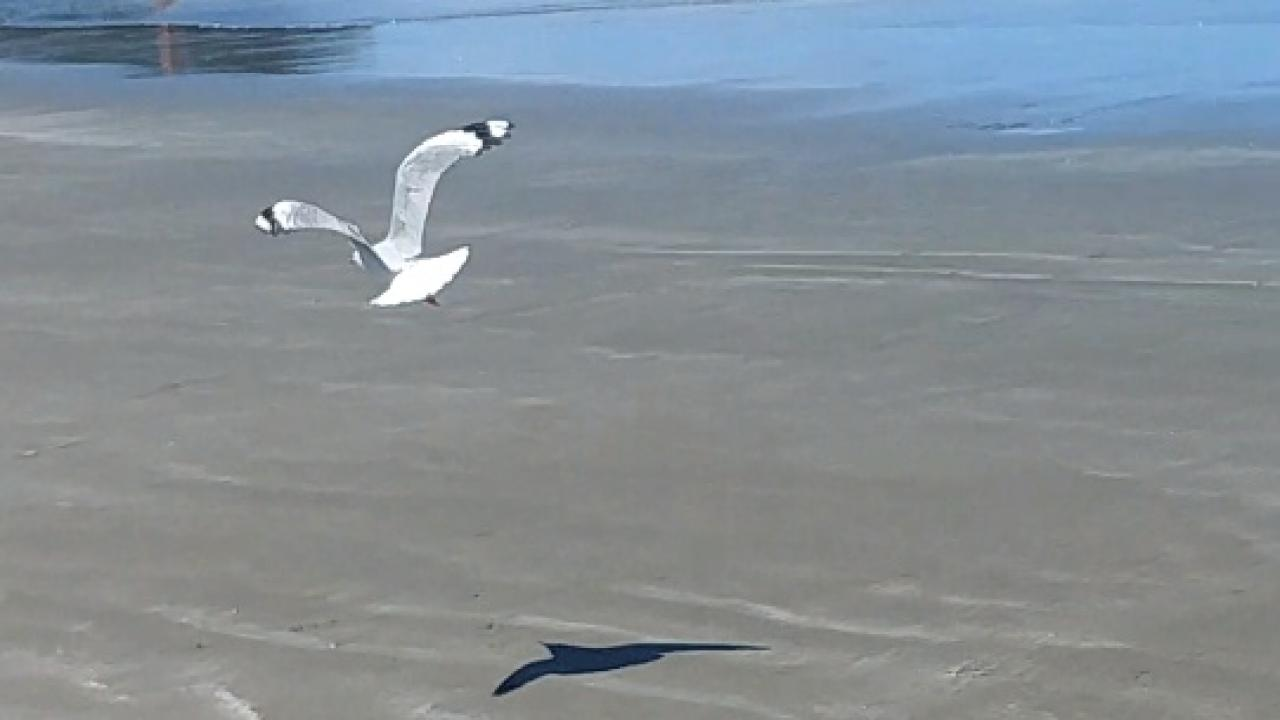Bird: (246, 111, 533, 321)
